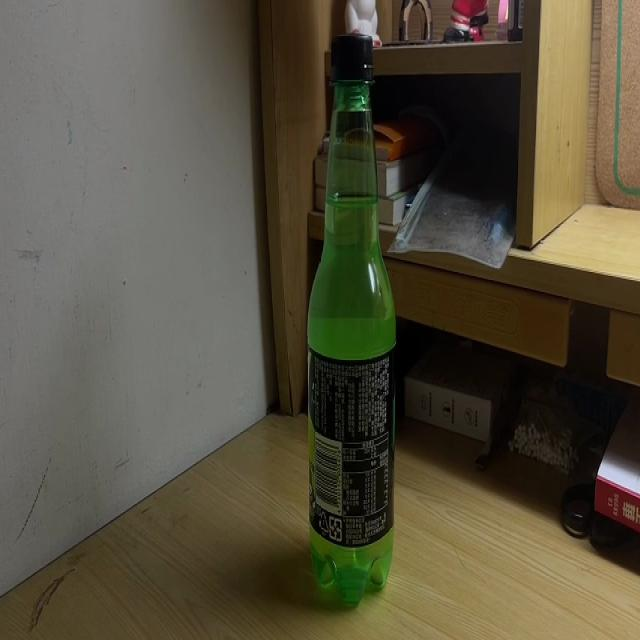Mountain-Dew: (308, 33, 396, 606)
